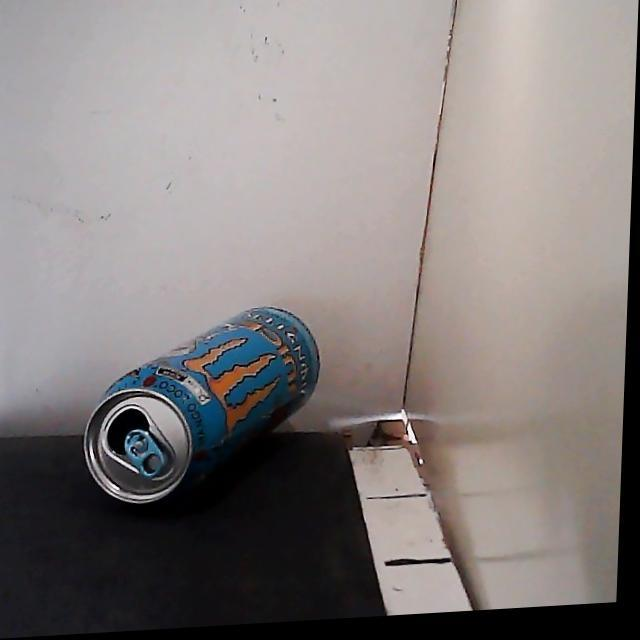metal: (84, 307, 318, 503)
